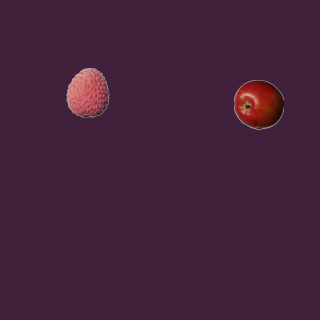Apple Braeburn: (233, 79, 283, 129)
Lychee: (62, 67, 112, 117)
